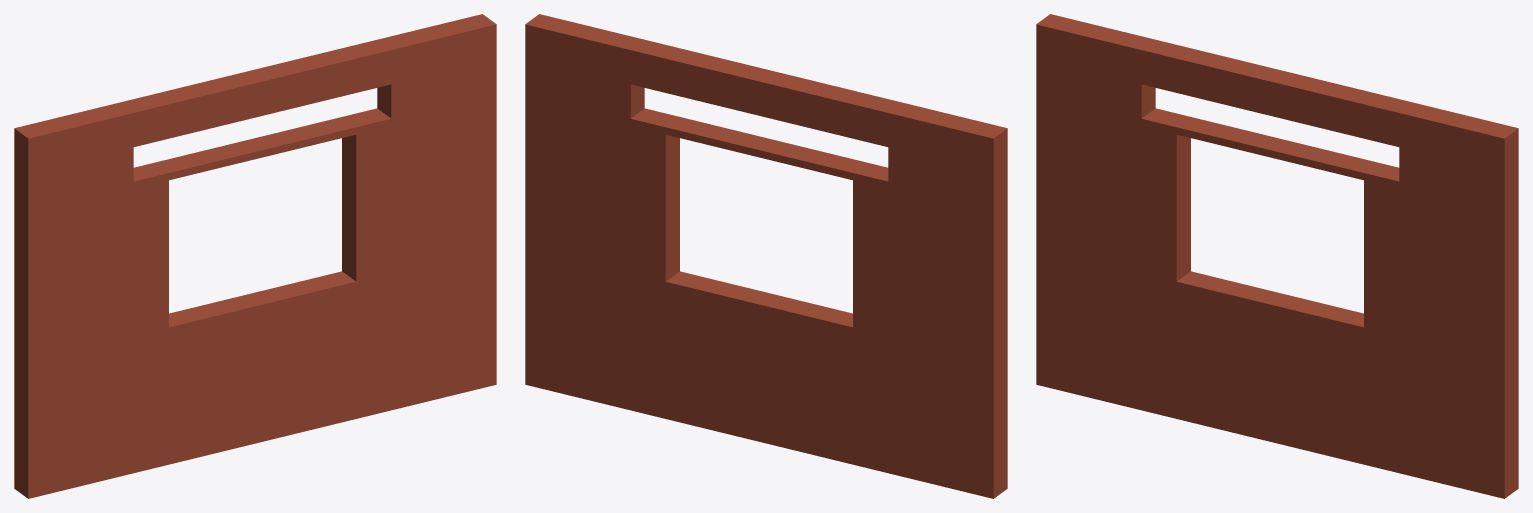
3 views of the same model, side by side, from view 1: azimuth 30°, elevation 25°; view 2: azimuth 150°, elevation 25°; view 3: azimuth 330°, elevation 25° (orthographic).
Visible parts, largest first — view 1: wall_brick_sample_low; view 2: wall_brick_sample_low; view 3: wall_brick_sample_low.
Boxes of the visible parts, box(x1,y1,x2,y2) form: wall_brick_sample_low: box(14, 14, 496, 498); wall_brick_sample_low: box(525, 14, 1007, 498); wall_brick_sample_low: box(1036, 14, 1518, 498).
Bounding box in the file's own units: 2 × 1.47 × 0.105.
